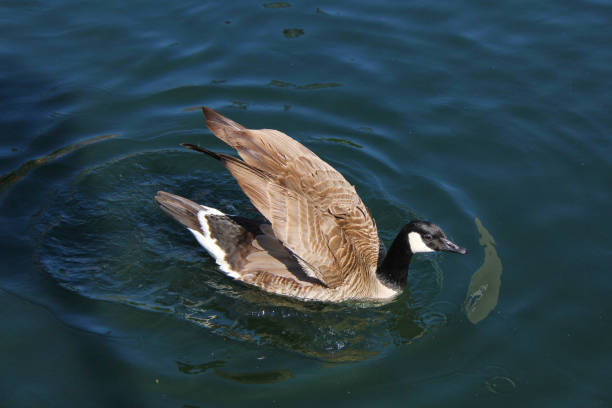goose: (153, 103, 470, 310)
